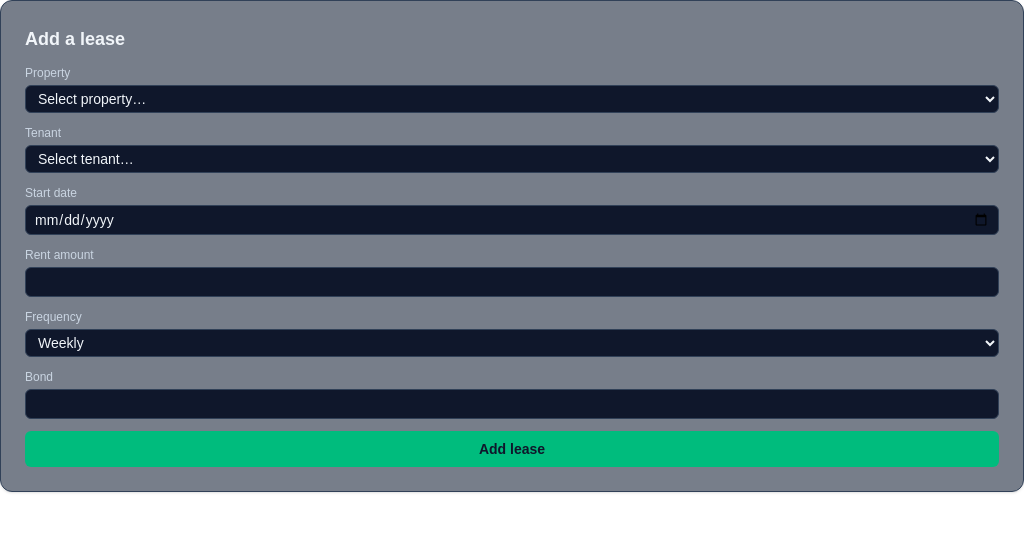
Test: AddLeaseForm › validates property, tenant and start date are required
The image size is (1024, 534).
Click the button "Add lease" at (512, 449), box [25, 431, 999, 467]
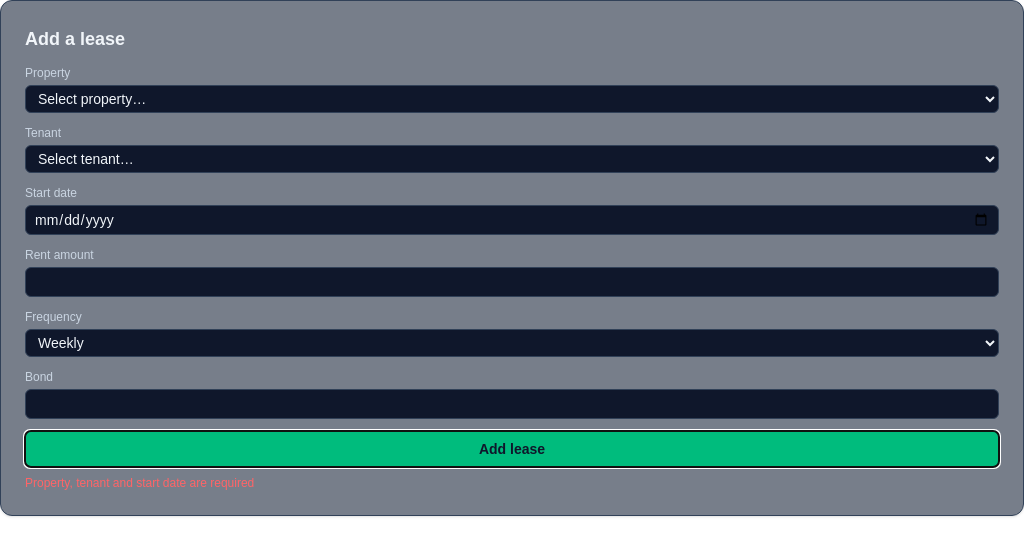
Now the text "Property, tenant and start date are required" is shown, box [25, 476, 254, 490]
